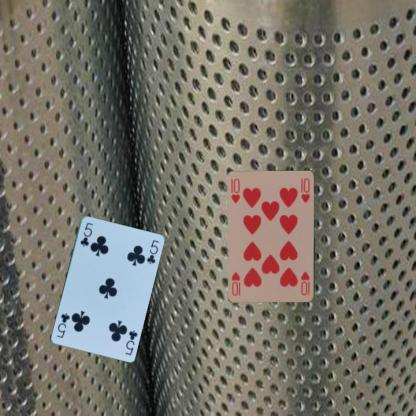10h: (229, 176, 241, 205), (299, 269, 311, 297)
5c: (122, 327, 138, 356), (78, 219, 93, 248)
